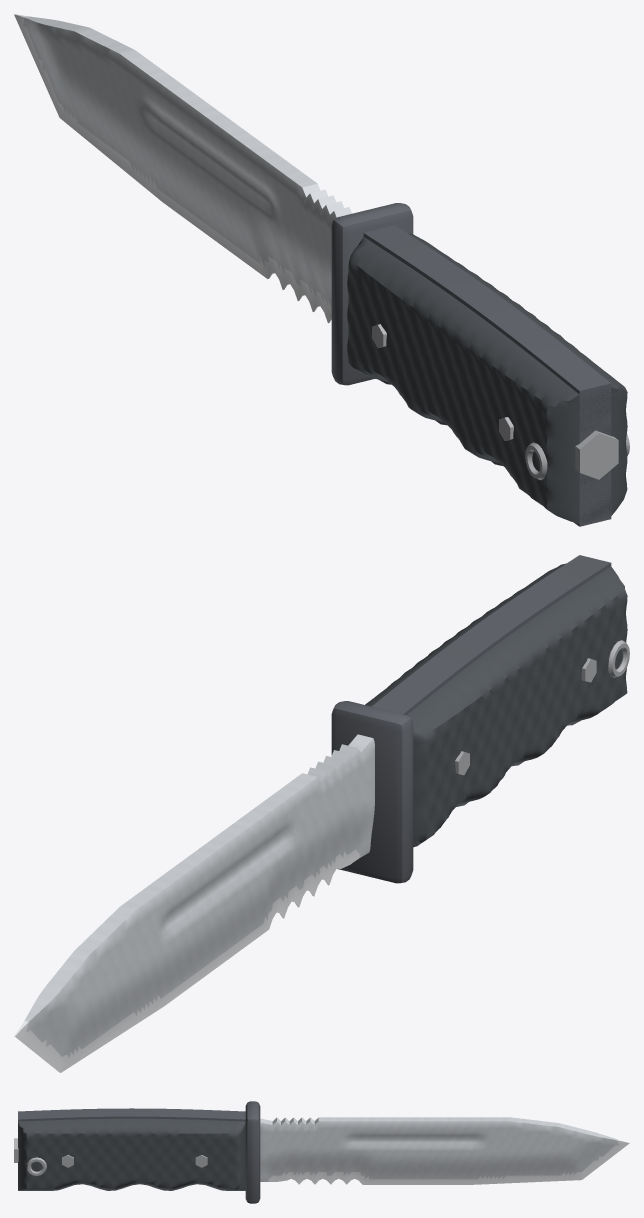
The model's file is hassault-weapon-knife.glb.
3 renders of one model, top to bottom at view 1: azimuth 30°, elevation 25°; view 2: azimuth 150°, elevation 25°; view 3: azimuth 270°, elevation 25°, orthographic. The views are drawn at different scales.
Visible parts, largest first — view 1: Weapon_Knife_Default; view 2: Weapon_Knife_Default; view 3: Weapon_Knife_Default.
Part boxes in pixels (bbox=[...]): Weapon_Knife_Default: bbox=[14, 14, 629, 526]; Weapon_Knife_Default: bbox=[14, 555, 629, 1072]; Weapon_Knife_Default: bbox=[14, 1101, 629, 1203].
Size of the model in its own units: 0.0708 by 0.1278 by 0.8192.
Materials: 5 (1 with a texture image).
